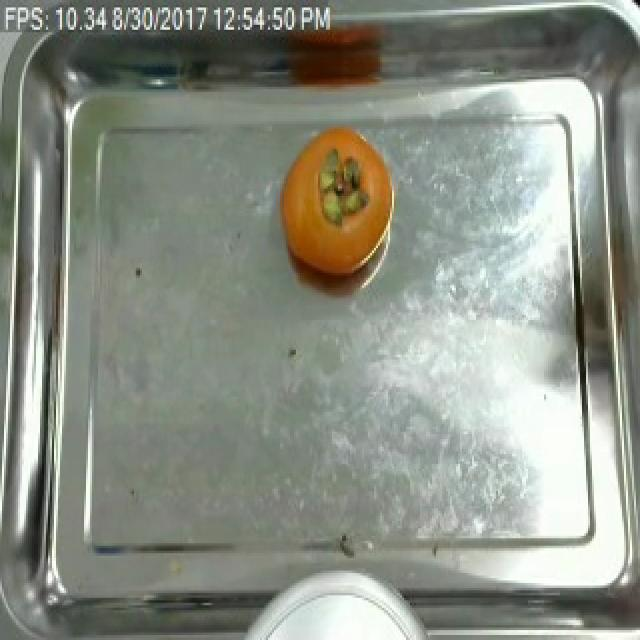Fruit: (274, 116, 400, 278)
